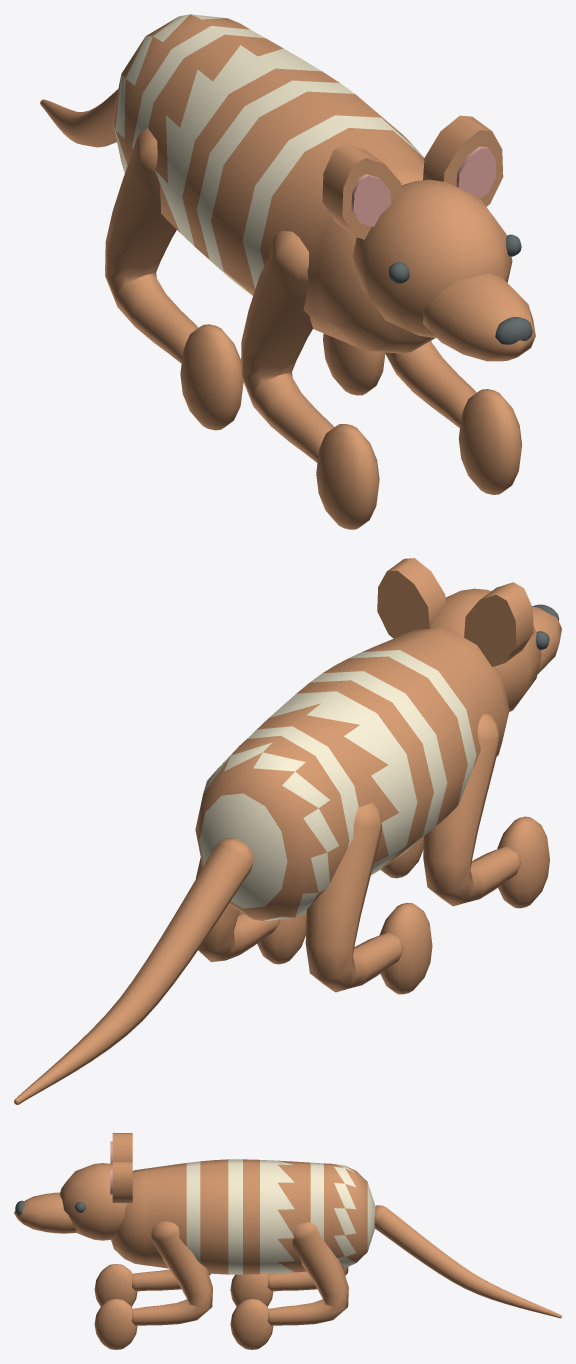
The model's file is outback-and-australian-wildlife-numbat-8d07374e__5914.glb.
The picture shows the model from 3 angles, top to bottom: view 1: azimuth 30°, elevation 25°; view 2: azimuth 150°, elevation 25°; view 3: azimuth 270°, elevation 25°; orthographic projection. The views are drawn at different scales.
Parts seen in each view (by area): view 1: numbat; view 2: numbat; view 3: numbat.
Boxes of the visible parts, x1,y1,x2,y2 form: numbat: [40, 14, 535, 529]; numbat: [14, 558, 561, 1104]; numbat: [14, 1133, 561, 1349].
Size of the model in its own units: 0.14 by 0.2559 by 0.6898.
